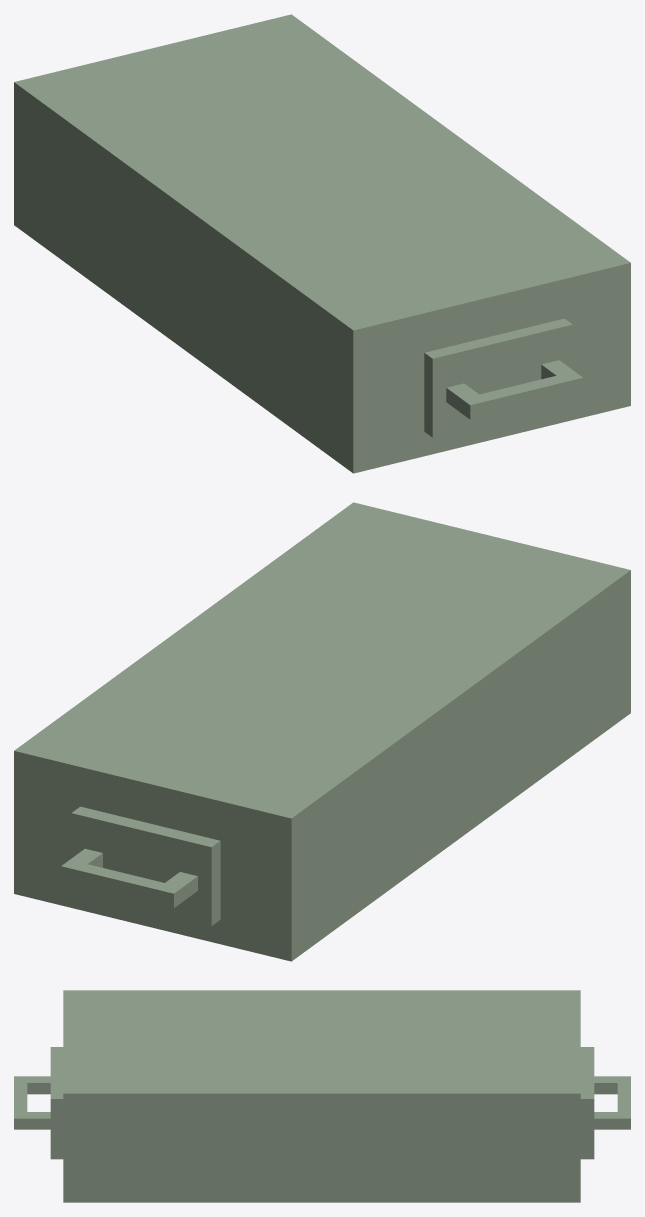
Rendered from metal_box_01.fbx.
The picture shows the model from 3 angles, top to bottom: view 1: azimuth 30°, elevation 25°; view 2: azimuth 150°, elevation 25°; view 3: azimuth 270°, elevation 25°; orthographic projection. The views are drawn at different scales.
Visible parts, largest first — view 1: metal_box_01; view 2: metal_box_01; view 3: metal_box_01.
Boxes of the visible parts, x1,y1,x2,y2 form: metal_box_01: (14, 14, 630, 473); metal_box_01: (14, 502, 630, 961); metal_box_01: (14, 990, 630, 1202).
Bounding box in the file's own units: 0.969 × 0.4774 × 2.45.
